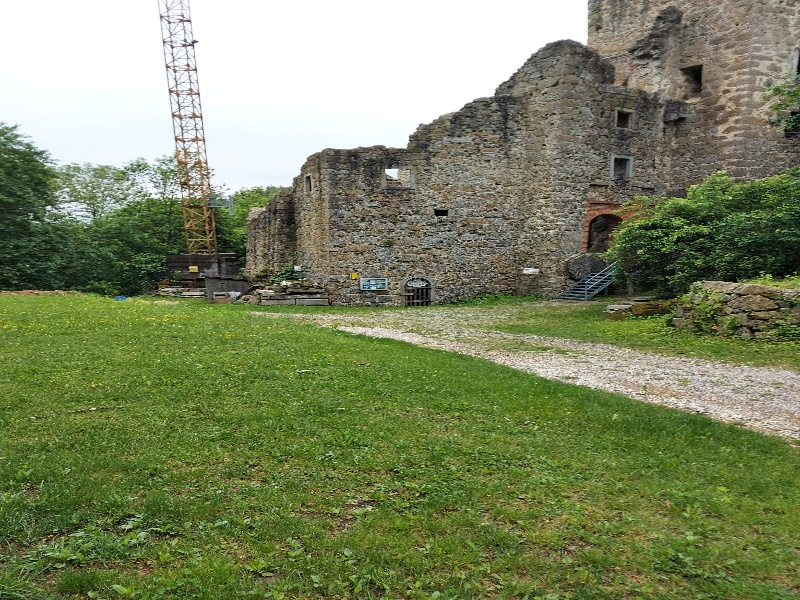dungeon: (397, 274, 440, 309)
